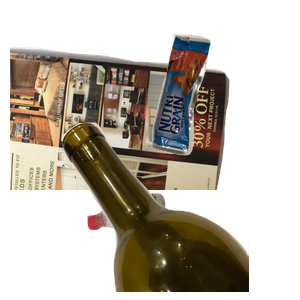glass: (60, 120, 300, 300)
paper: (10, 44, 232, 224)
plastic: (84, 191, 242, 300)
trash: (149, 31, 300, 179)
